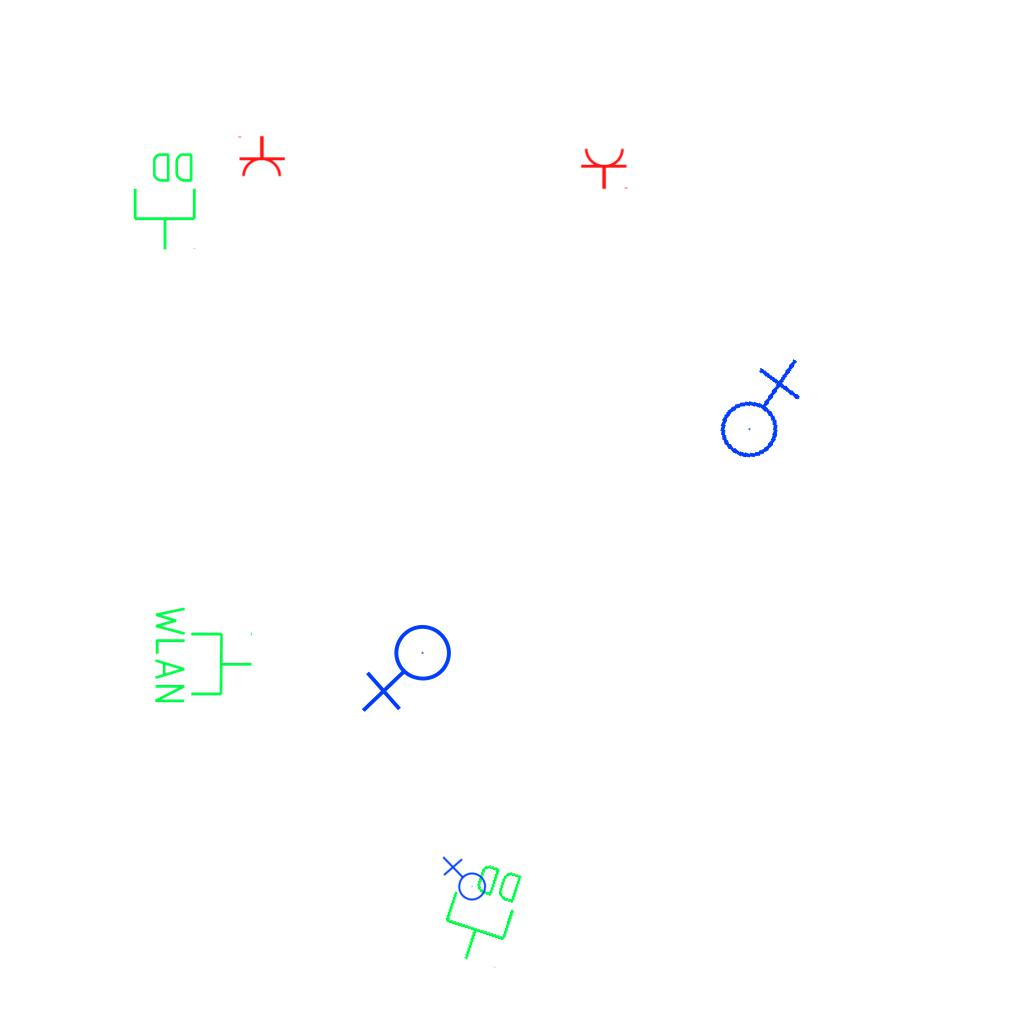Datenanschluss_zweifach: (432, 852, 531, 973), (131, 149, 200, 252)
Elektroanschluss_allgemein_230V_Geraeteanschlussdose_230V: (699, 353, 816, 467), (361, 623, 460, 717), (440, 856, 487, 905)
Schukosteckdose_einfach: (580, 147, 630, 190), (236, 135, 286, 178)
WLAN: (151, 602, 255, 707)
